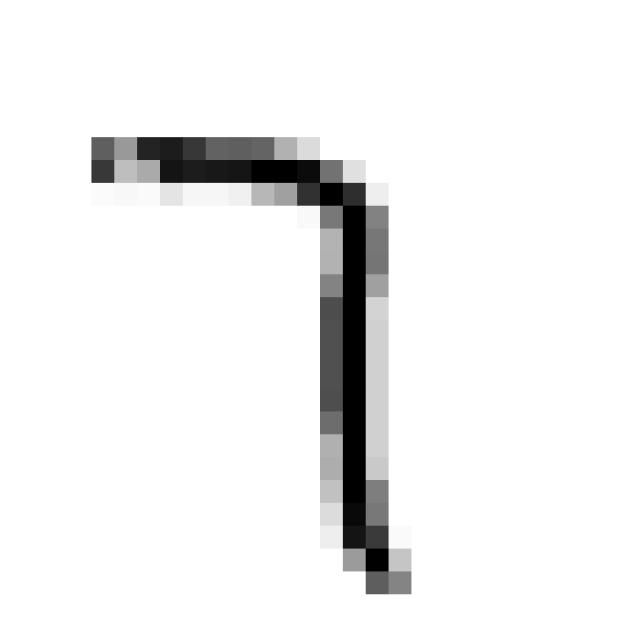6 -six-: (62, 110, 423, 615)
